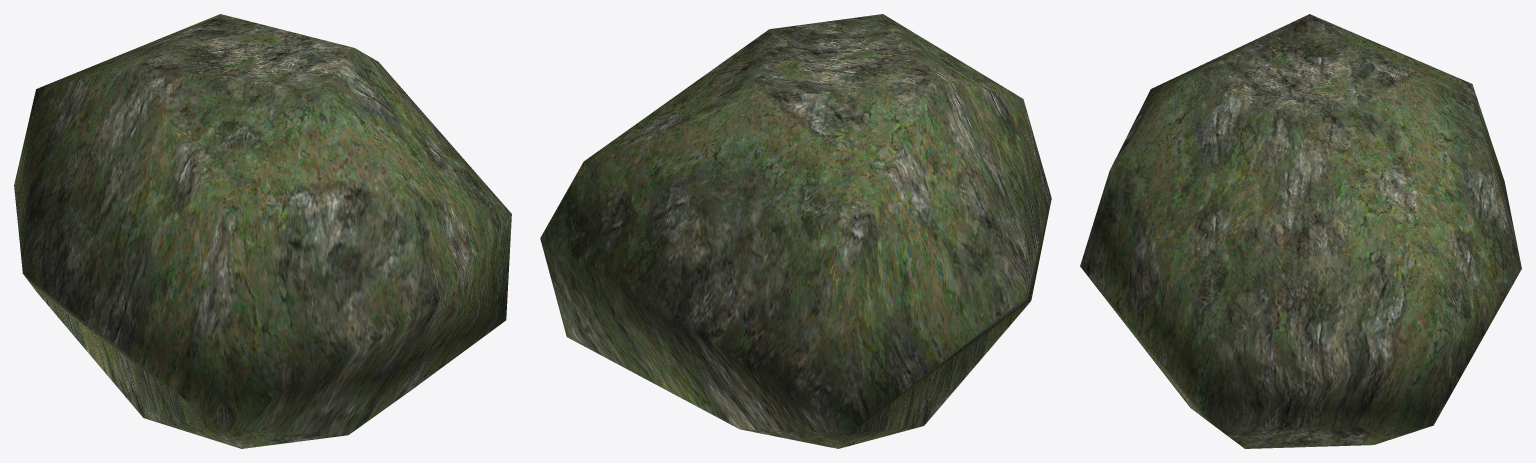
File: mtns_rock_moss_a7_l1.fbx
3 renders of one model, left to right at view 1: azimuth 30°, elevation 25°; view 2: azimuth 150°, elevation 25°; view 3: azimuth 270°, elevation 25°, orthographic. The views are drawn at different scales.
Visible parts, largest first — view 1: mesh_node; view 2: mesh_node; view 3: mesh_node.
Part boxes in pixels (left/top/right/bottom): mesh_node: left=14, top=14, right=511, bottom=448; mesh_node: left=540, top=14, right=1051, bottom=448; mesh_node: left=1080, top=14, right=1521, bottom=448.
Bounding box in the file's own units: 0.9963 × 0.7761 × 0.9466.
